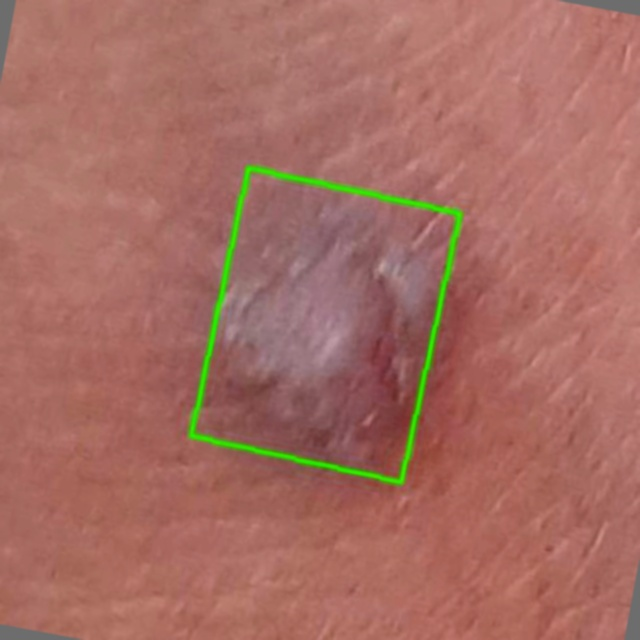Contact Dermatitis: (189, 168, 458, 482)
